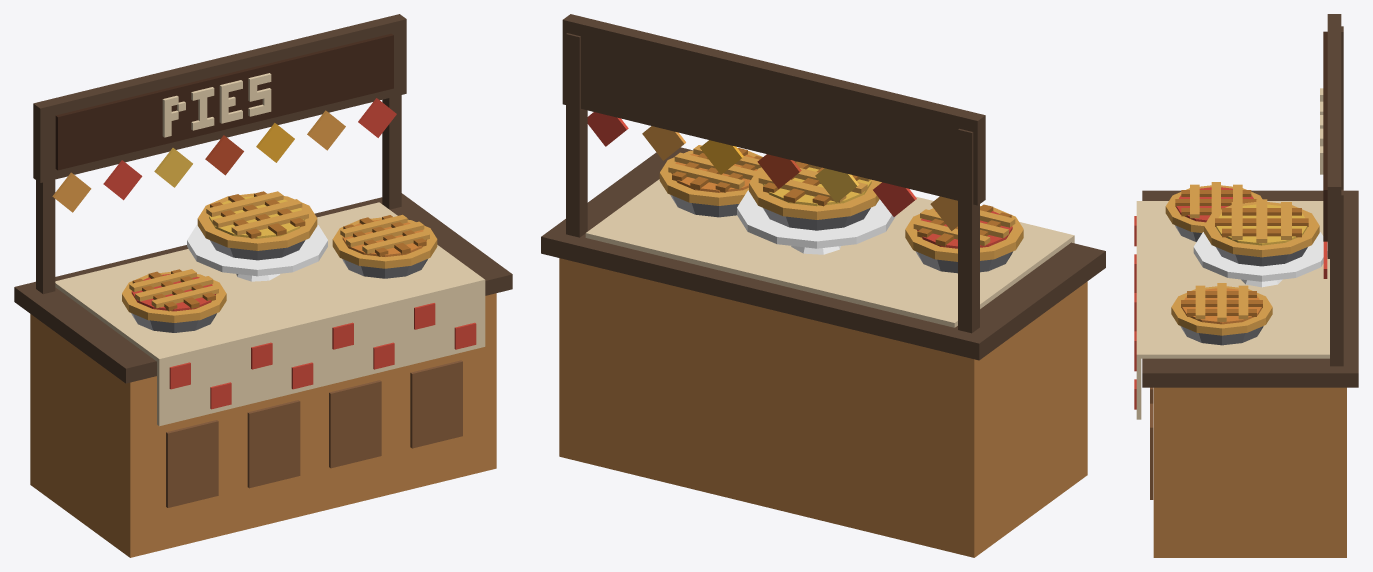
Rendered from CatCafe_Decor_PieCounter.glb.
3 views of the same model, side by side, from view 1: azimuth 30°, elevation 25°; view 2: azimuth 150°, elevation 25°; view 3: azimuth 270°, elevation 25° (orthographic). The views are drawn at different scales.
Visible parts, largest first — view 1: CatCafe_Decor_PieCounter; view 2: CatCafe_Decor_PieCounter; view 3: CatCafe_Decor_PieCounter.
Part boxes in pixels (x1=…): CatCafe_Decor_PieCounter: x1=14, y1=14, x2=512, y2=557; CatCafe_Decor_PieCounter: x1=541, y1=14, x2=1105, y2=557; CatCafe_Decor_PieCounter: x1=1134, y1=14, x2=1358, y2=557.
Bounding box in the file's own units: 3.8 × 3.6 × 1.97.
1 material, 1 textured.
